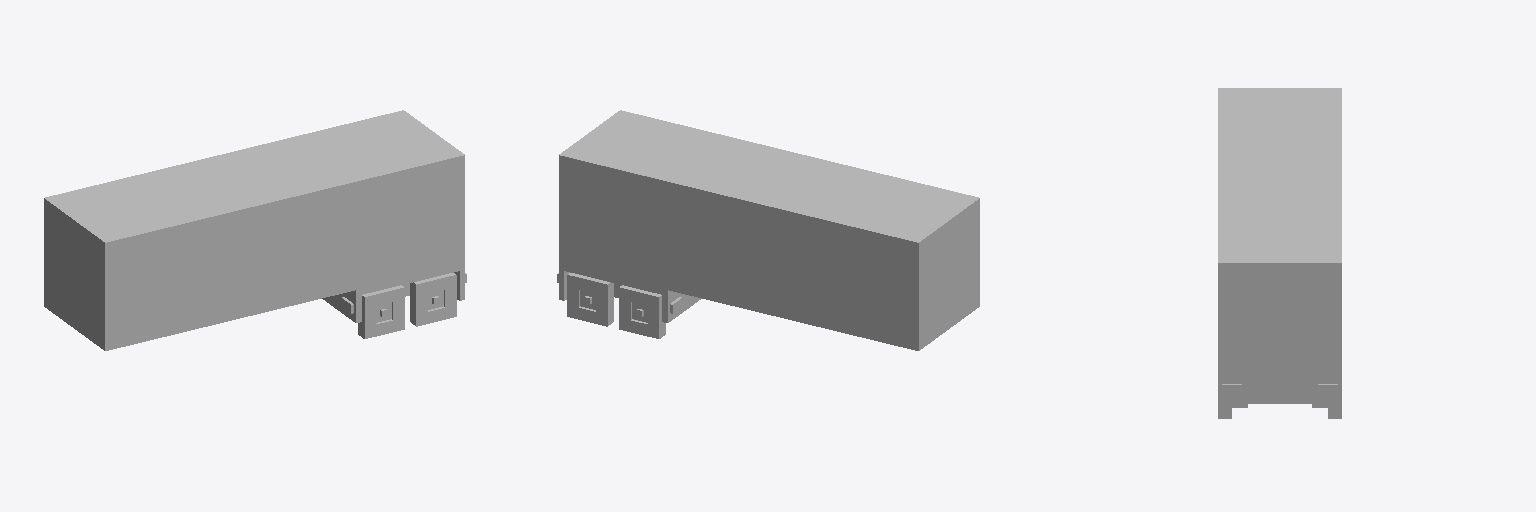
File: alll cars3-127.obj
3 renders of one model, left to right at view 1: azimuth 30°, elevation 25°; view 2: azimuth 150°, elevation 25°; view 3: azimuth 270°, elevation 25°, orthographic.
Visible parts, largest first — view 1: object 1; view 2: object 1; view 3: object 1.
Boxes of the visible parts, <box> form: object 1: <box>44,110,466,350</box>; object 1: <box>557,110,979,350</box>; object 1: <box>1218,88,1341,418</box>.
Size of the model in its own units: 12.6 by 5.3 by 3.7.